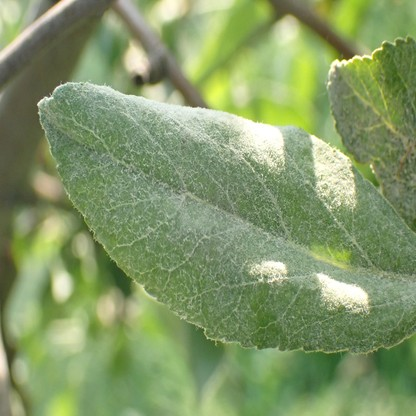powder: (38, 80, 416, 351), (327, 35, 416, 233)
